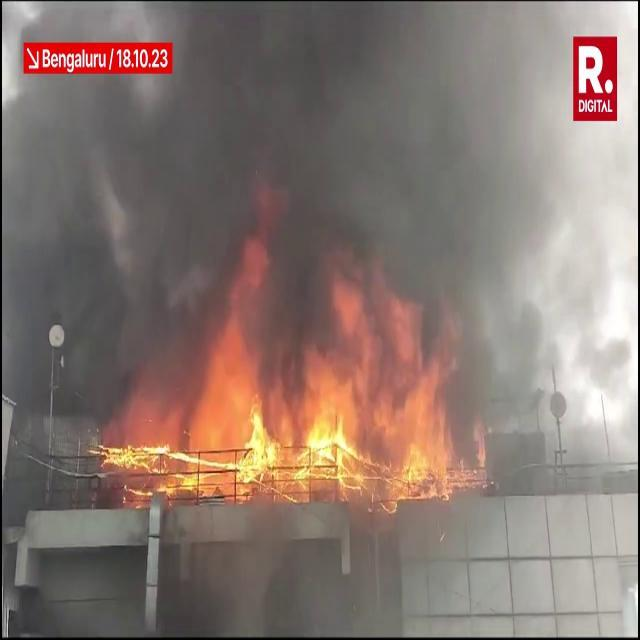Fire: (105, 308, 467, 510)
Smoke: (8, 2, 576, 413)
